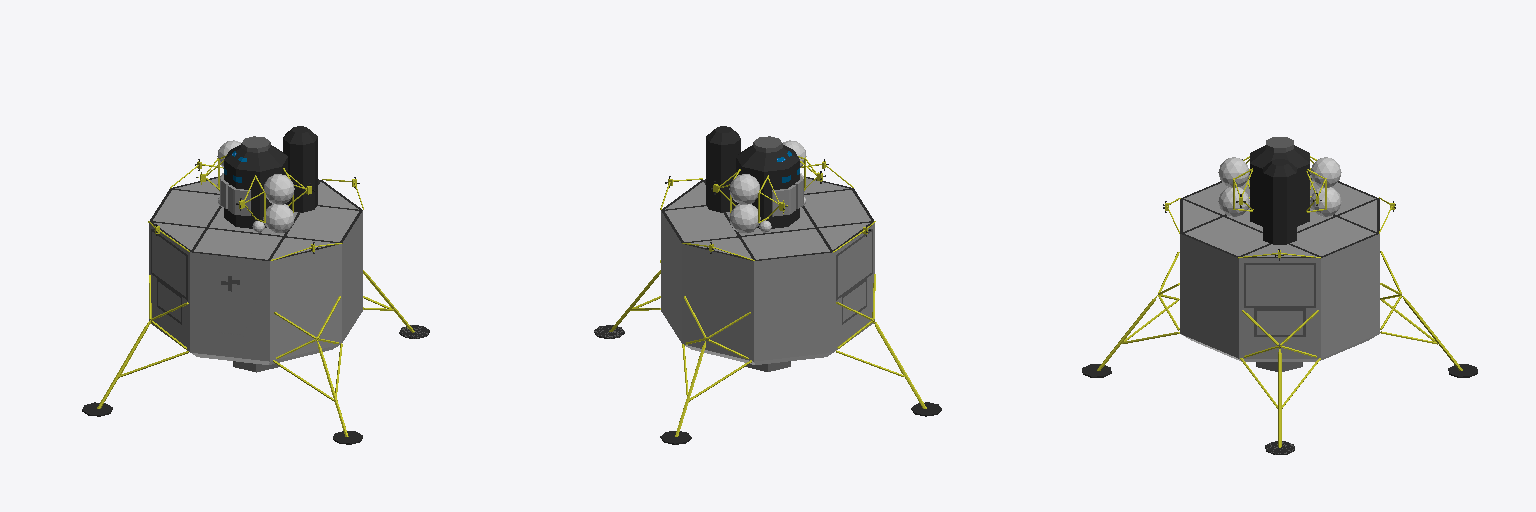
File: Altair+Lunar+Lander.obj
3 views of the same model, side by side, from view 1: azimuth 30°, elevation 25°; view 2: azimuth 150°, elevation 25°; view 3: azimuth 270°, elevation 25° (orthographic).
Visible parts, largest first — view 1: SketchUp, tubing2_ID19, Component_5_ID148, tubing_ID9, landing_gear_ID30, Component_6_ID148; view 2: SketchUp, tubing2_ID19, tubing_ID9, Component_6_ID148, Component_5_ID148, landing_gear_ID30; view 3: SketchUp, tubing2_ID19, Component_6_ID148, tubing_ID9, Component_5_ID148, landing_gear_ID30.
Part boxes in pixels (bbox=[...]): SketchUp: bbox=[149, 126, 362, 361]; tubing2_ID19: bbox=[119, 155, 393, 401]; Component_5_ID148: bbox=[217, 142, 293, 228]; tubing_ID9: bbox=[97, 270, 414, 436]; landing_gear_ID30: bbox=[82, 325, 429, 444]; Component_6_ID148: bbox=[217, 140, 294, 233]; SketchUp: bbox=[661, 126, 874, 361]; tubing2_ID19: bbox=[630, 156, 904, 401]; tubing_ID9: bbox=[609, 270, 926, 436]; Component_6_ID148: bbox=[729, 140, 806, 233]; Component_5_ID148: bbox=[730, 140, 806, 233]; landing_gear_ID30: bbox=[594, 325, 941, 444]; SketchUp: bbox=[1180, 137, 1379, 358]; tubing2_ID19: bbox=[1122, 156, 1437, 408]; Component_6_ID148: bbox=[1219, 158, 1341, 214]; tubing_ID9: bbox=[1097, 295, 1462, 447]; Component_5_ID148: bbox=[1218, 157, 1340, 216]; landing_gear_ID30: bbox=[1082, 364, 1477, 454].
Size of the model in its own units: 16.11 by 10.37 by 16.11.